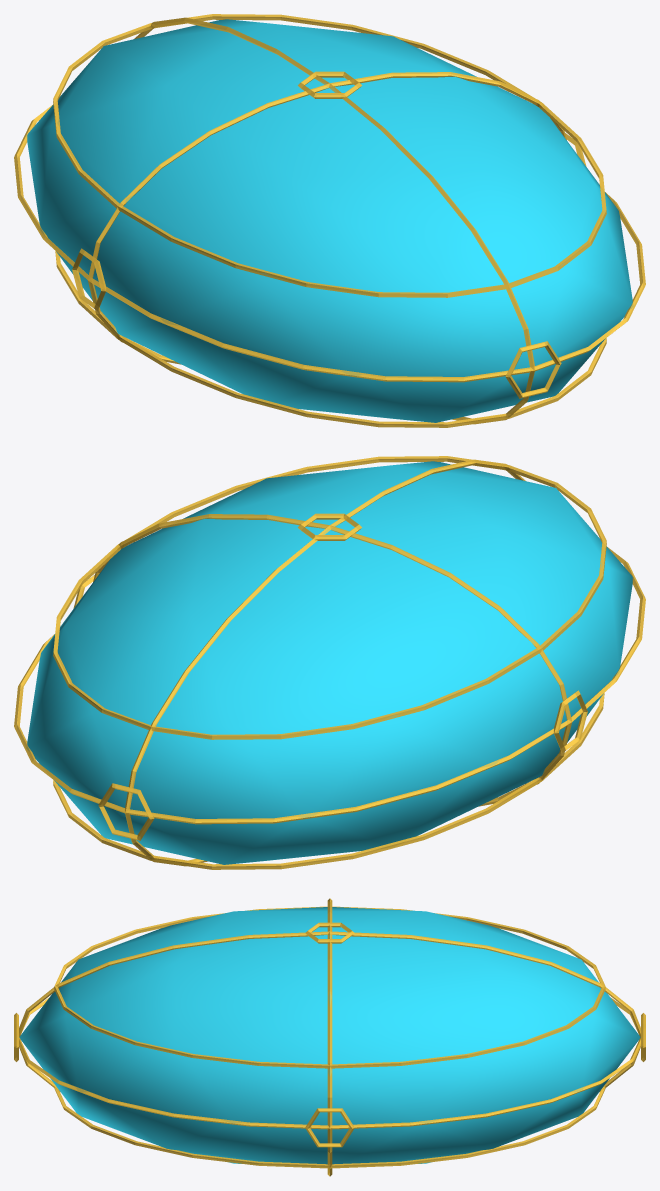
The model's file is reinforced_particle_shield.obj.
3 views of the same model, one above another, from view 1: azimuth 30°, elevation 25°; view 2: azimuth 150°, elevation 25°; view 3: azimuth 270°, elevation 25° (orthographic). The views are drawn at different scales.
Visible parts, largest first — view 1: Cruiser_Reinforced_Particle_Shield, Cruiser_Particle_Shield_HexReinforcement; view 2: Cruiser_Reinforced_Particle_Shield, Cruiser_Particle_Shield_HexReinforcement; view 3: Cruiser_Reinforced_Particle_Shield, Cruiser_Particle_Shield_HexReinforcement.
Boxes of the visible parts, <box> form: Cruiser_Reinforced_Particle_Shield: <box>27,19,632,422</box>; Cruiser_Particle_Shield_HexReinforcement: <box>14,14,645,427</box>; Cruiser_Reinforced_Particle_Shield: <box>27,461,632,864</box>; Cruiser_Particle_Shield_HexReinforcement: <box>14,456,645,869</box>; Cruiser_Reinforced_Particle_Shield: <box>19,907,640,1164</box>; Cruiser_Particle_Shield_HexReinforcement: <box>14,898,645,1176</box>.
Size of the model in its own units: 4.24 by 2.31 by 6.2.
